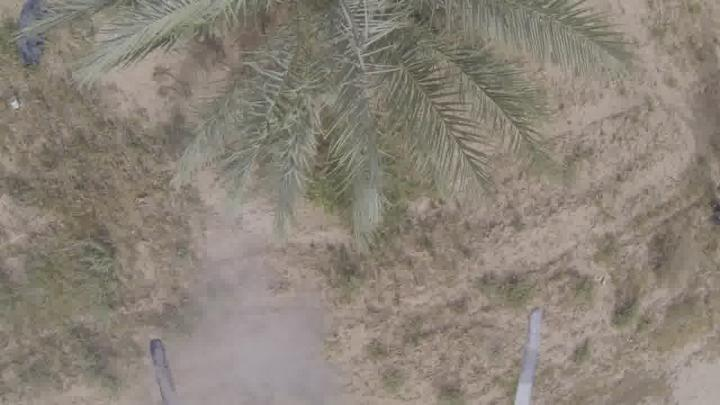Date-Palm-Crown: (155, 0, 501, 158)
